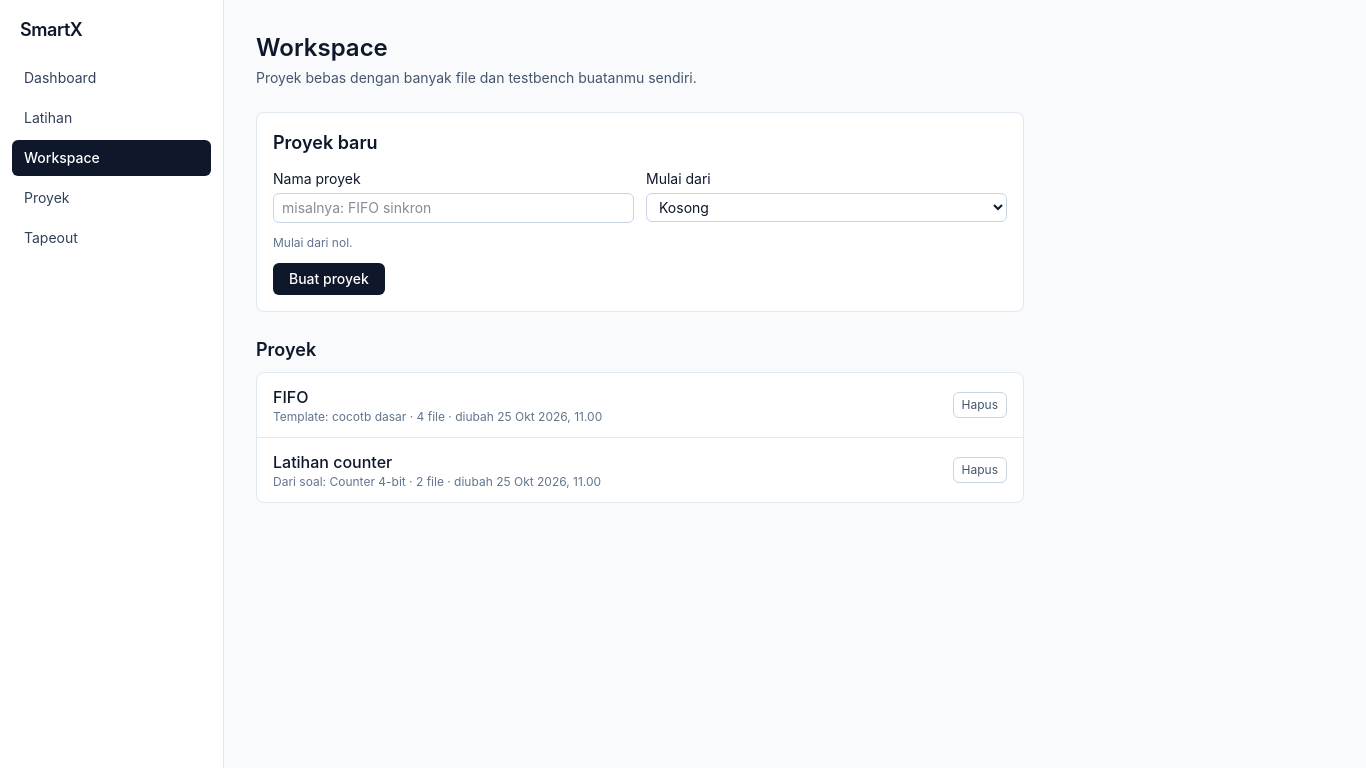
Test: WorkspaceList › shows the backend's reason when creating fails
In the field labelled "Nama proyek": (454, 208) x1=273 y1=193 x2=634 y2=223, type "X"
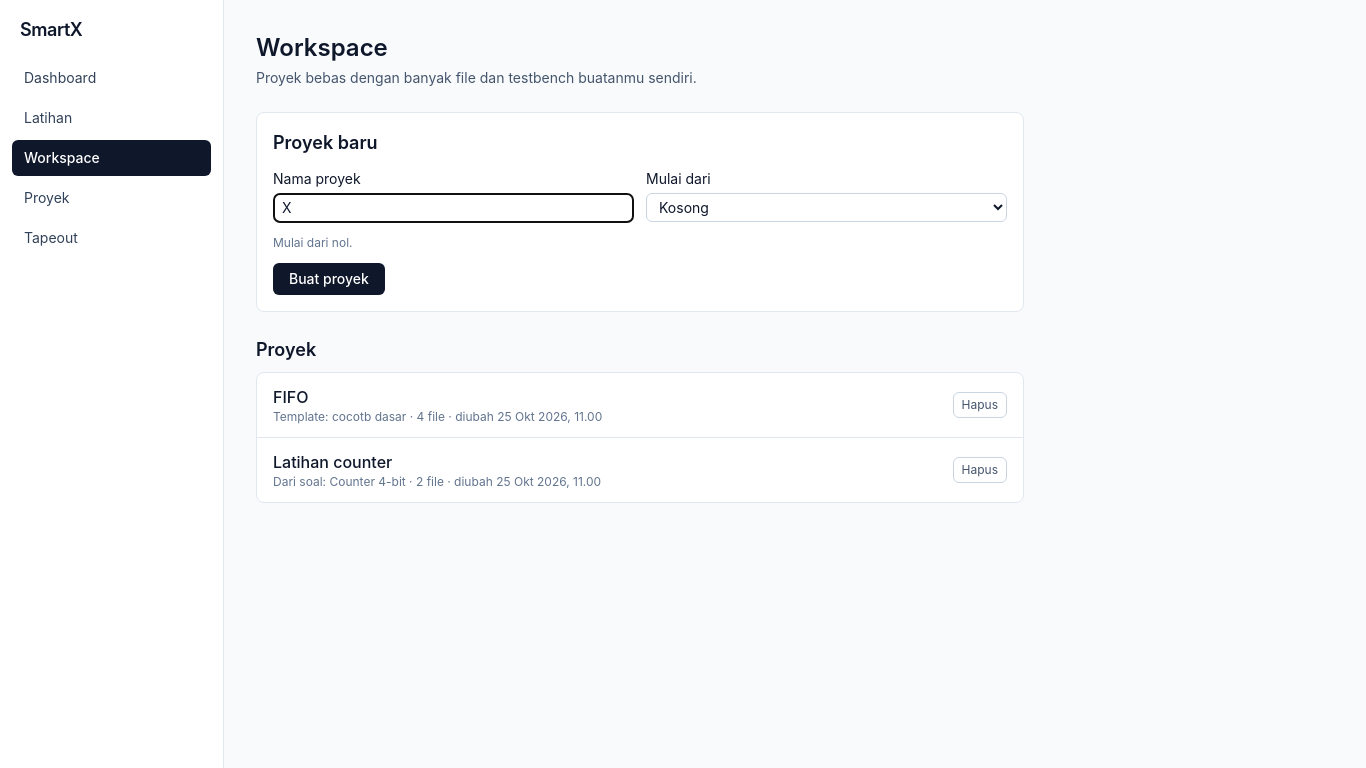
Click the button "Buat proyek": (329, 279) x1=273 y1=263 x2=385 y2=295
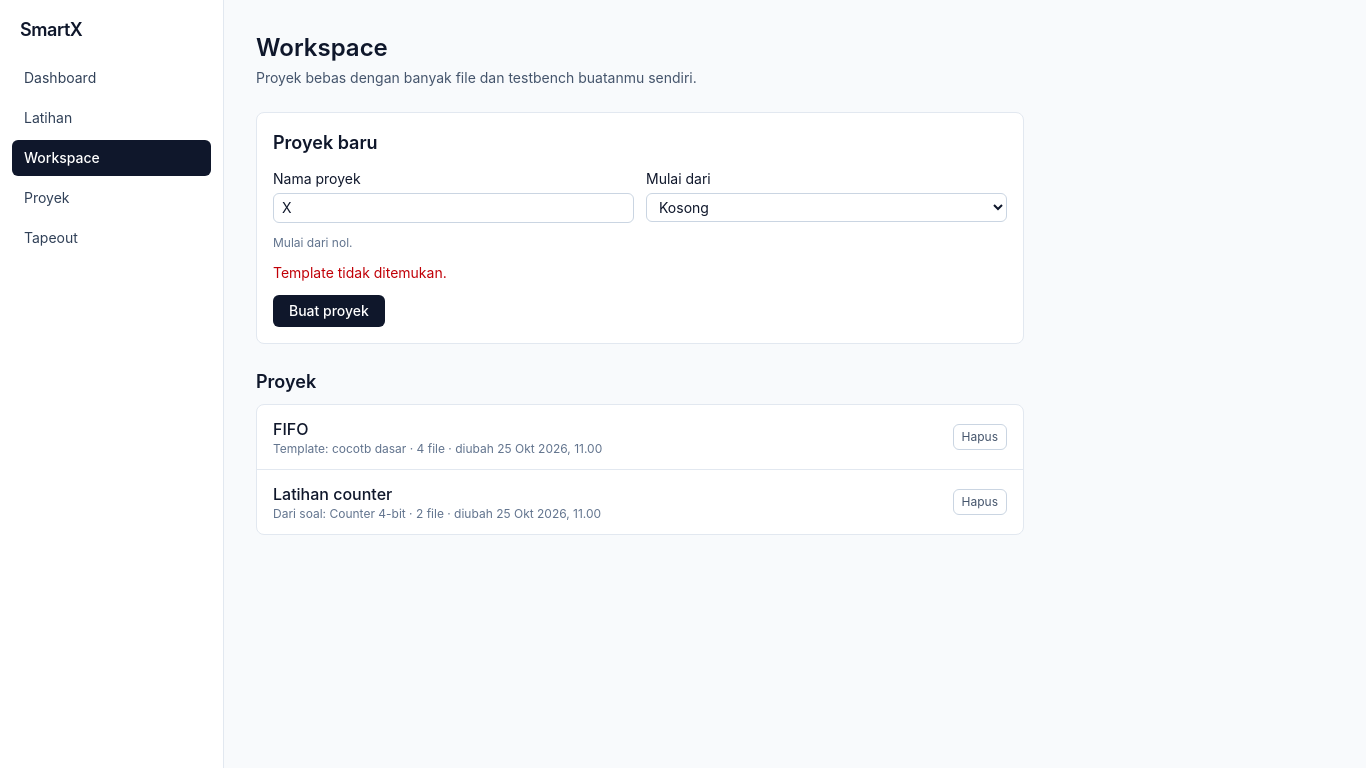
Now the text "Template tidak ditemukan." is shown, box x1=273 y1=264 x2=447 y2=281
